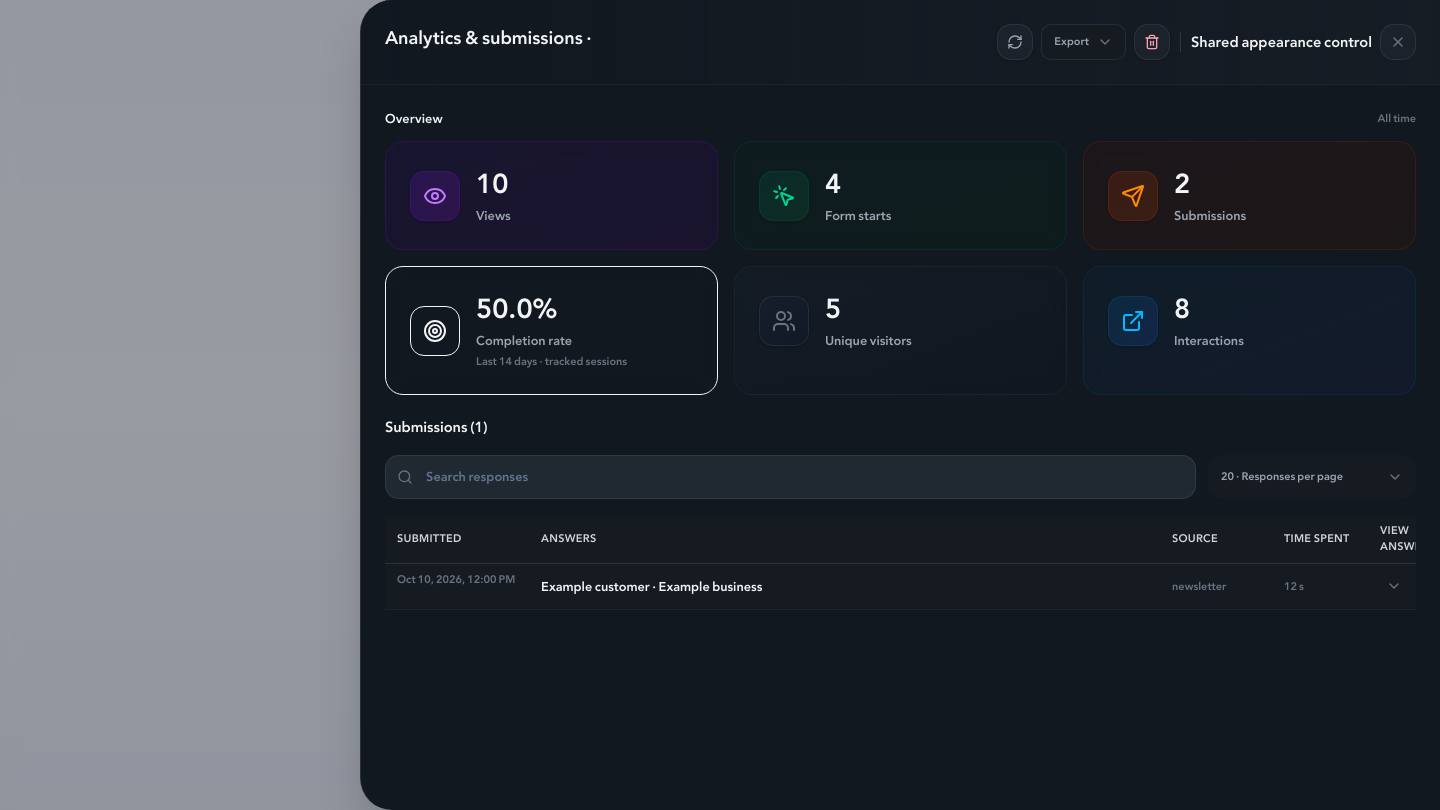
it: combined form insights › business confirms deleting all responses and refreshes both sets of data
The width and height of the screenshot is (1440, 810).
Check: the button "Shared appearance control" is shown, box 1191,30 -> 1372,54
Check: the button "Export" is shown, box 1041,24 -> 1126,60
Click the button named "Delete all form data" at (1152, 42), box 1134,24 -> 1170,60
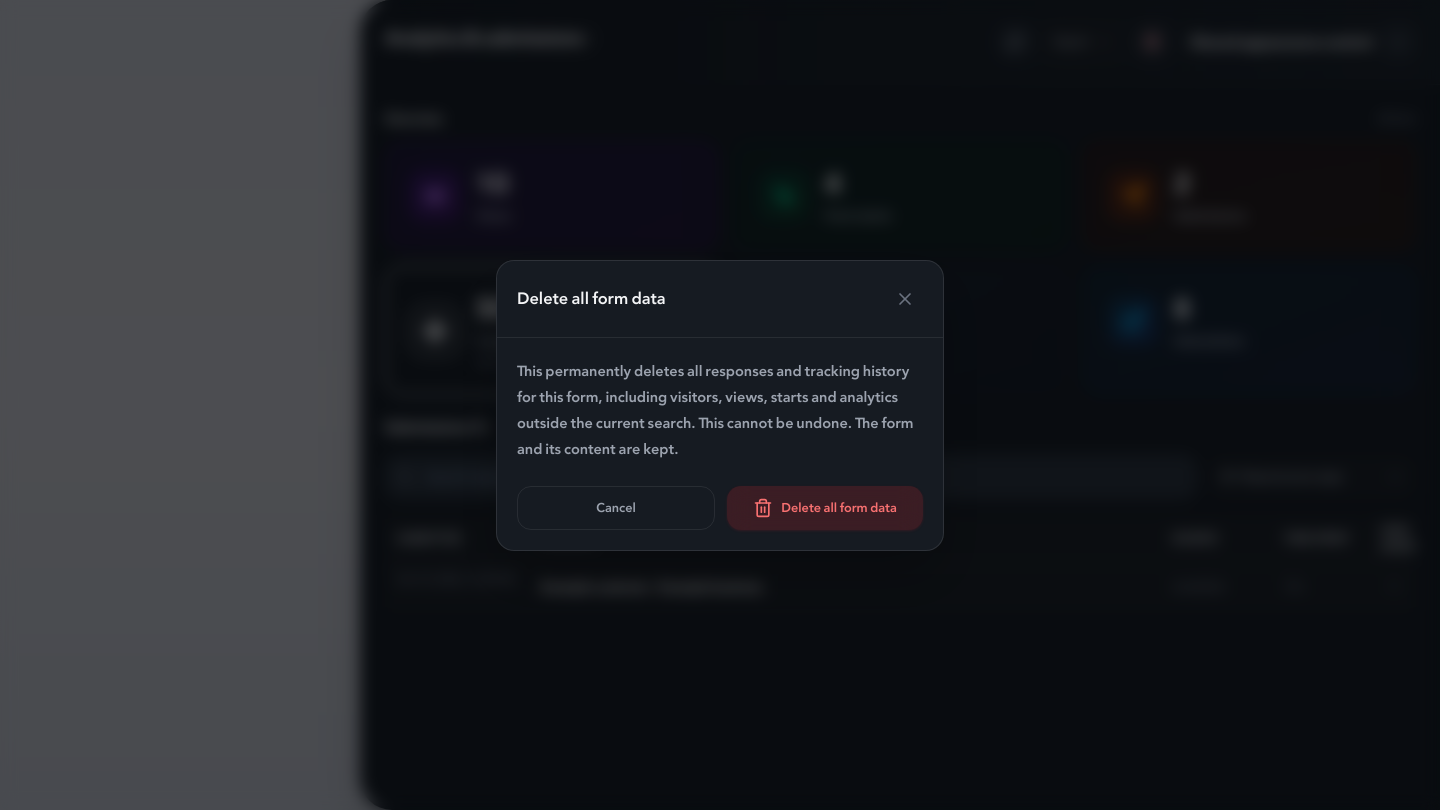
Check: the dialog "Delete all form data" shows "This permanently deletes all responses and tracking history for this form, including visitors, views, starts and analytics outside the current search. This cann", box 517,358 -> 914,462
Click the button "Delete all form data" at (825, 508), box 727,486 -> 923,530
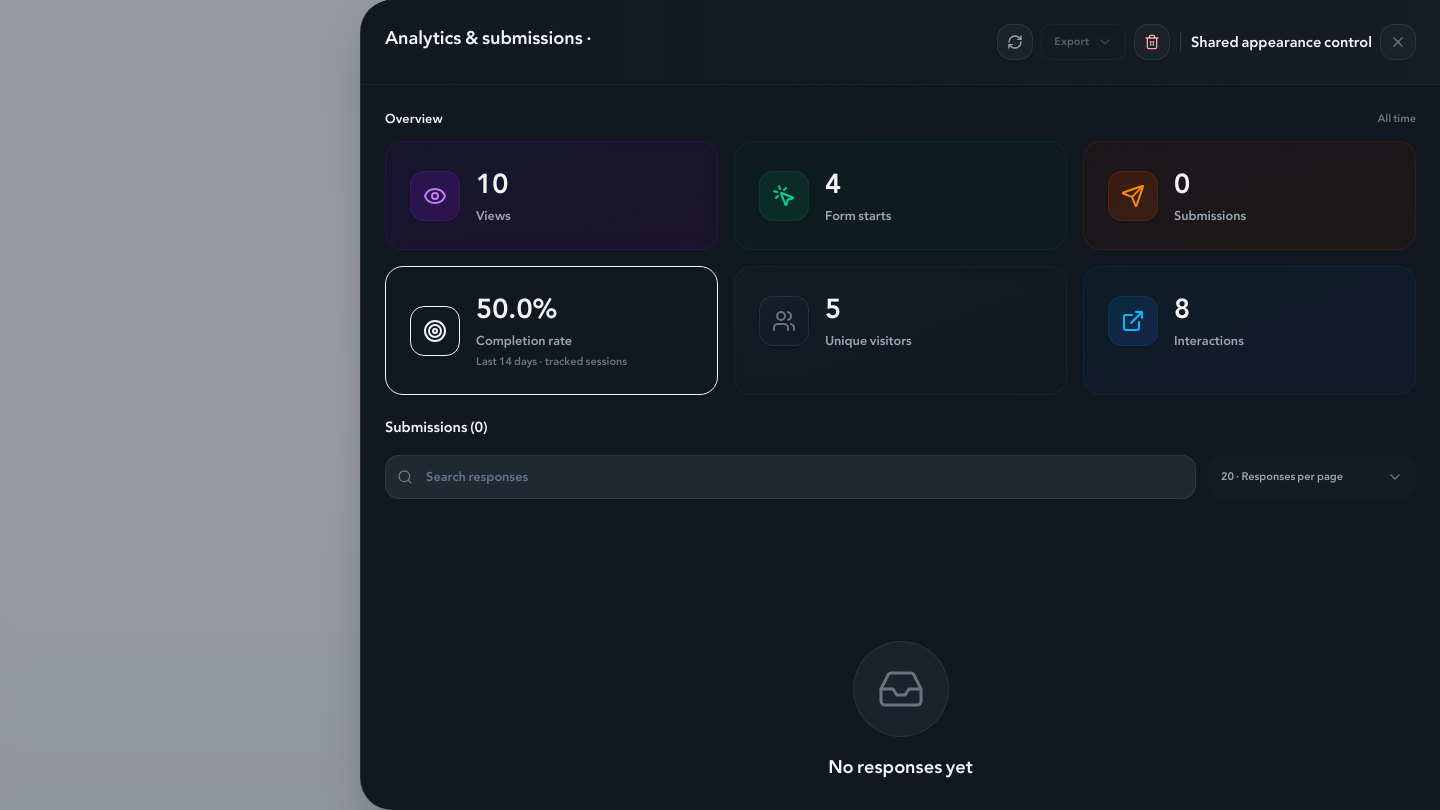
Check: the heading "Delete all form data" is gone
